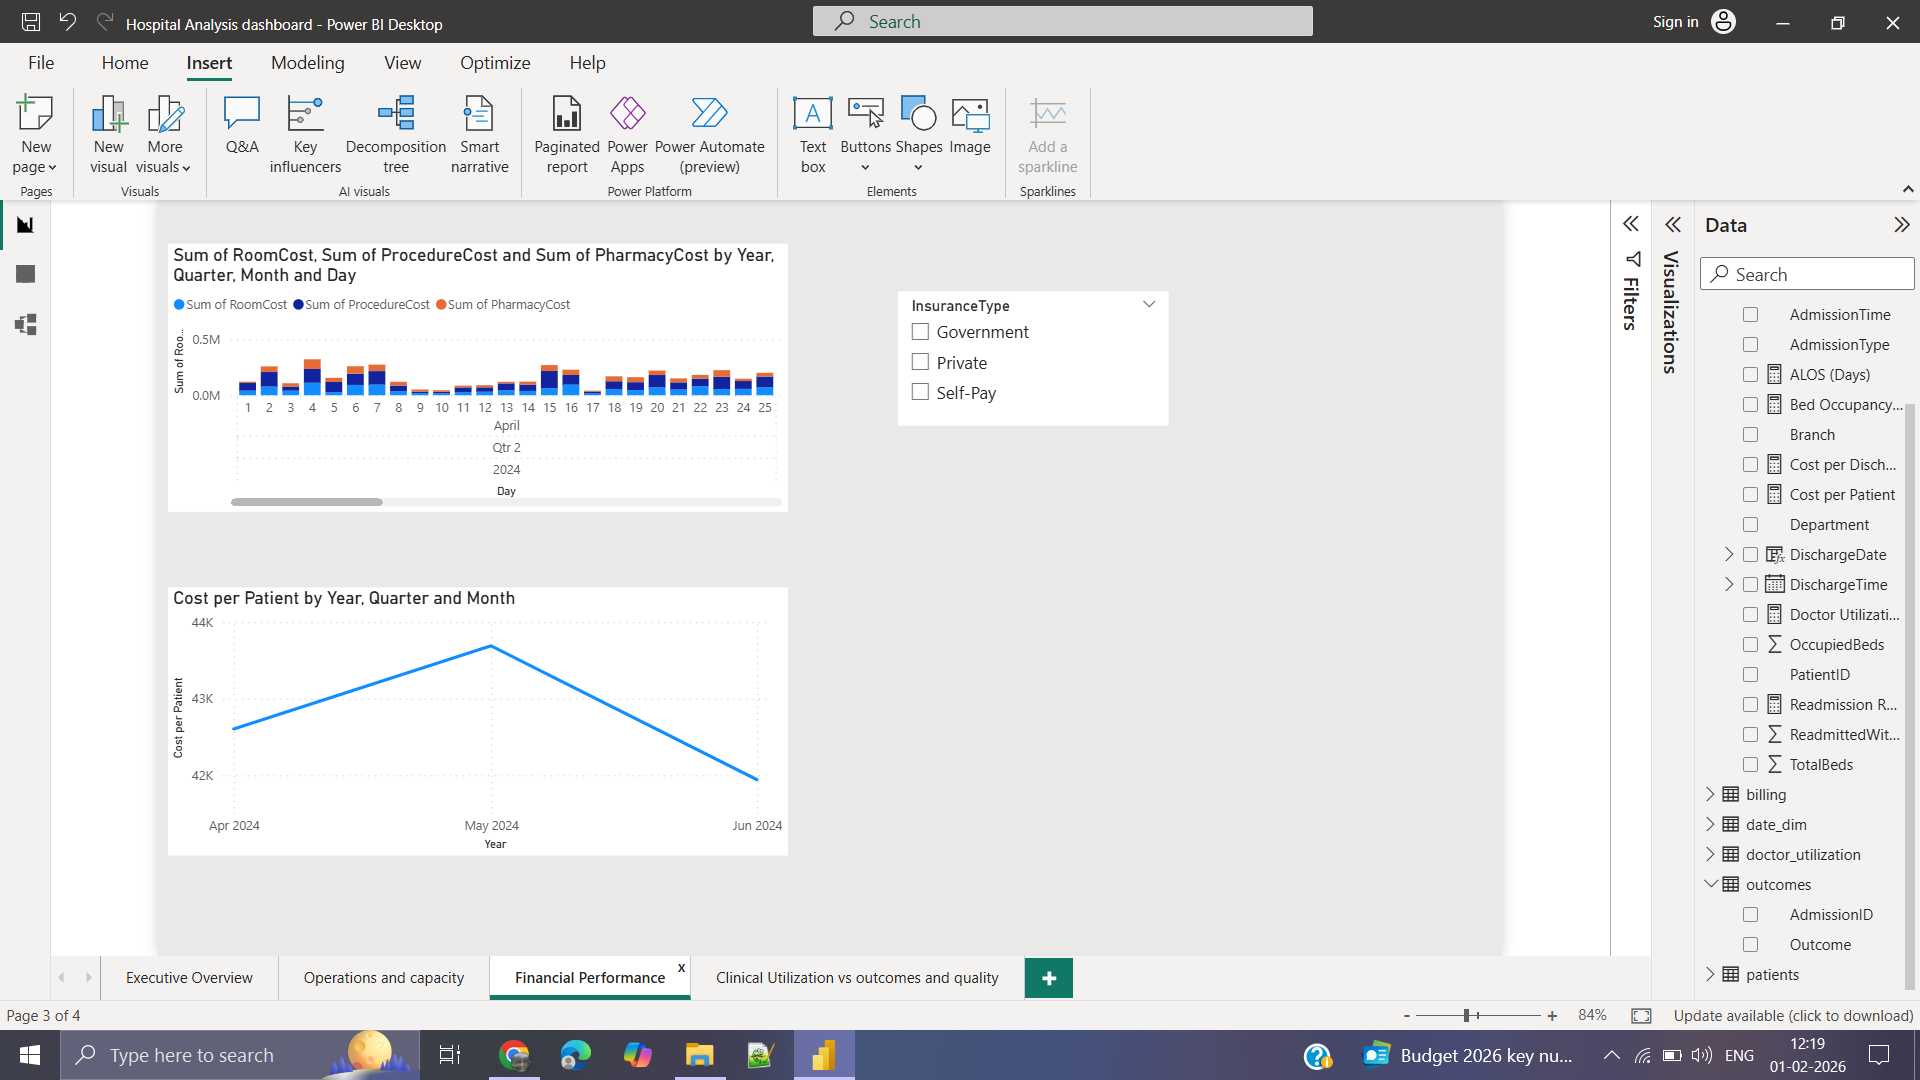

Layout of this report page (visuals, bound fields, positions):
{"tool":"powerbi","page":{"name":"Financial Performance","canvas":[1280,720],"ordinal":2},"visuals":[{"type":"columnChart","fields":{"Y":["Sum(billing.RoomCost)","Sum(billing.ProcedureCost)","Sum(billing.PharmacyCost)"],"Category":["admissions.AdmissionDate.Variation.Date Hierarchy.Year","admissions.AdmissionDate.Variation.Date Hierarchy.Quarter","admissions.AdmissionDate.Variation.Date Hierarchy.Month","admissions.AdmissionDate.Variation.Date Hierarchy.Day"]},"box":[9.6,41.2,590.1,255.2],"z":0},{"type":"lineChart","fields":{"Category":["admissions.AdmissionDate.Variation.Date Hierarchy.Year","admissions.AdmissionDate.Variation.Date Hierarchy.Quarter","admissions.AdmissionDate.Variation.Date Hierarchy.Month","admissions.AdmissionDate.Variation.Date Hierarchy.Day"],"Y":["admissions.Cost per Patient"]},"box":[9.6,369.1,590.1,255.2],"z":1000},{"type":"slicer","fields":{"Values":["patients.InsuranceType"]},"box":[703.9,86.4,258,127.6],"z":2000}]}

Visuals, with their boxes on the page's 1280x720 design canvas (x1, y1, x2, y2). These are canvas units, not pixel positions in the 1920x1080 screenshot, which may show the page scaled, cropped or inside an application window:
columnChart - Sum(billing.RoomCost) x Sum(billing.ProcedureCost): l=10, t=41, r=600, b=296
lineChart - admissions.AdmissionDate.Variation.Date Hierarchy.Year x admissions.AdmissionDate.Variation.Date Hierarchy.Quarter: l=10, t=369, r=600, b=624
slicer - patients.InsuranceType: l=704, t=86, r=962, b=214
